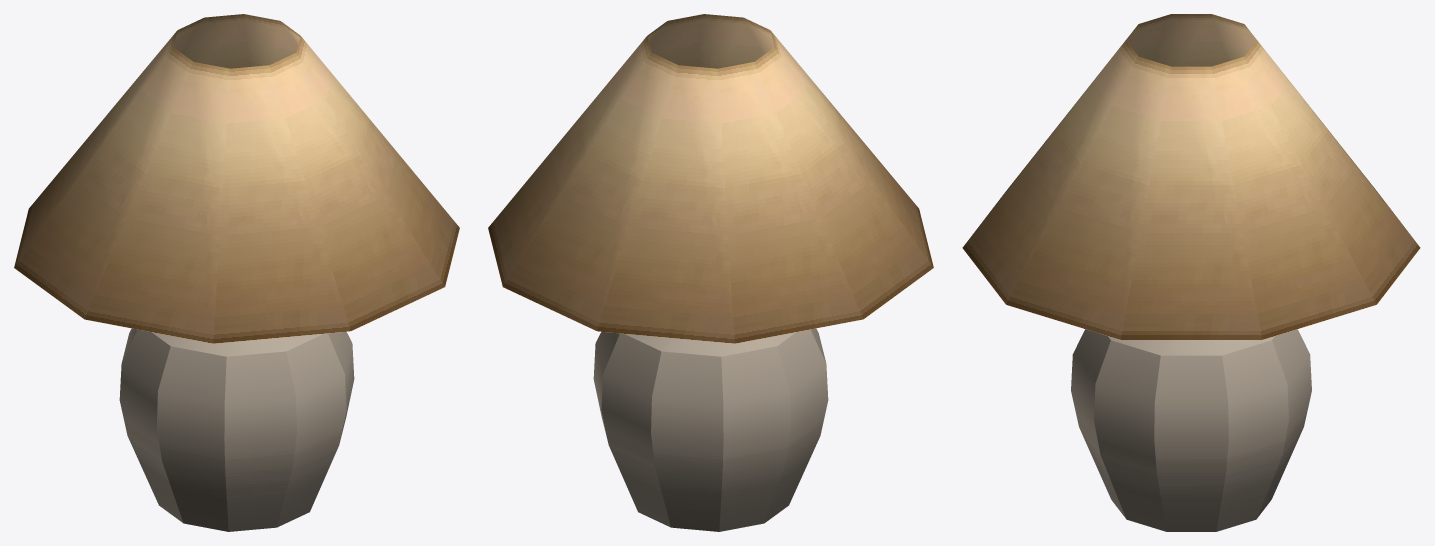
File: low_poly_lamp.glb
3 renders of one model, left to right at view 1: azimuth 30°, elevation 25°; view 2: azimuth 150°, elevation 25°; view 3: azimuth 270°, elevation 25°, orthographic.
Visible parts, largest first — view 1: Object_3, Object_2; view 2: Object_3, Object_2; view 3: Object_3, Object_2.
Part boxes in pixels (x1=…): Object_3: x1=14, y1=14, x2=459, y2=343; Object_2: x1=119, y1=328, x2=354, y2=531; Object_3: x1=488, y1=14, x2=933, y2=343; Object_2: x1=593, y1=328, x2=828, y2=531; Object_3: x1=962, y1=14, x2=1420, y2=339; Object_2: x1=1071, y1=329, x2=1311, y2=531.
Bounding box in the file's own units: 2.66 × 3.1 × 2.8.
Materials: 5 (2 with a texture image).
